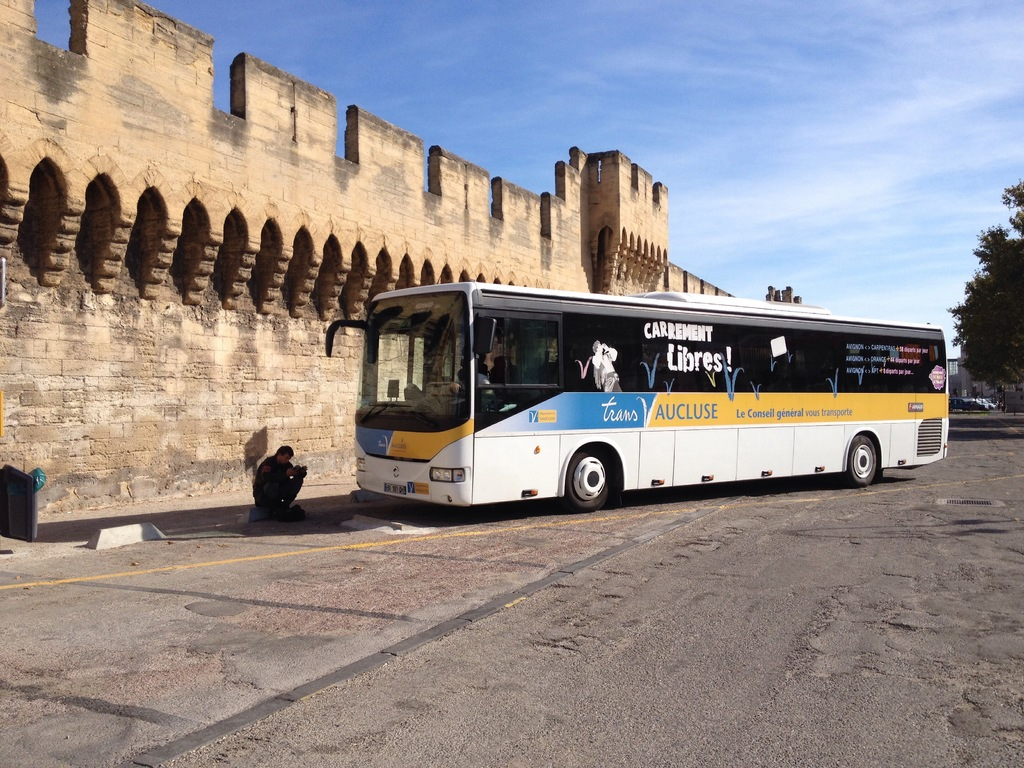Bus: (320, 269, 956, 523)
